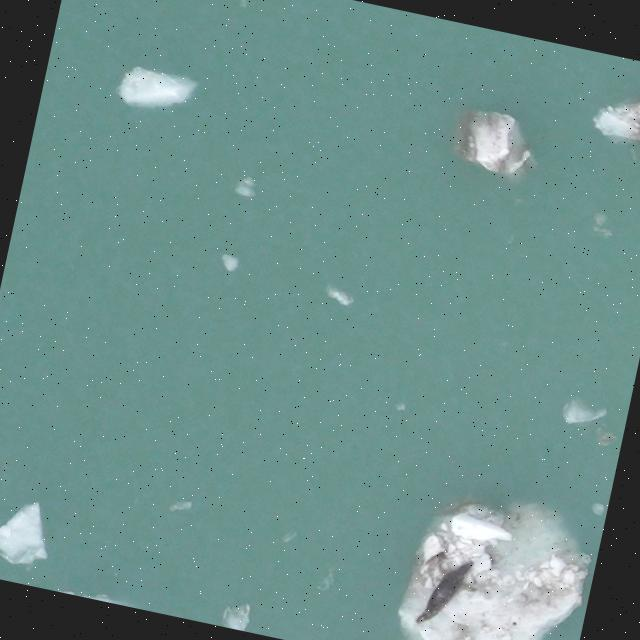seal: (412, 548, 487, 637)
